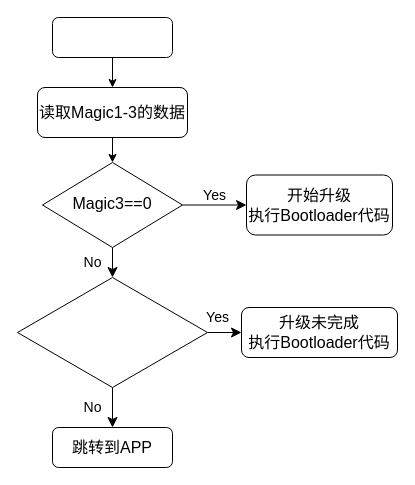
Some shapes in this 415 by 485 pixel diagram are drawn without their labels. The box of each missing label's shape, as (x1, y1, x2, y2) in pixels:
Magic2==0 &&Magic1== 0xffffffff: (16, 276, 208, 388)
开始: (52, 16, 172, 58)
